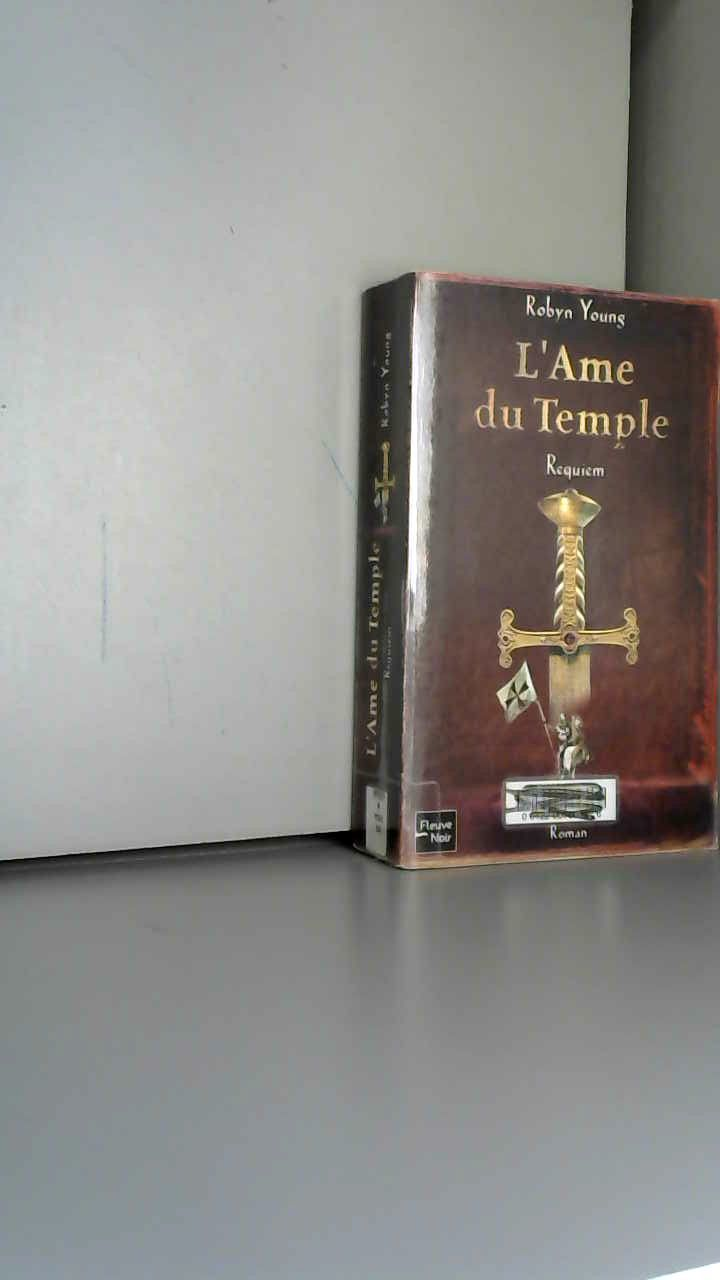book: (320, 240, 715, 925)
